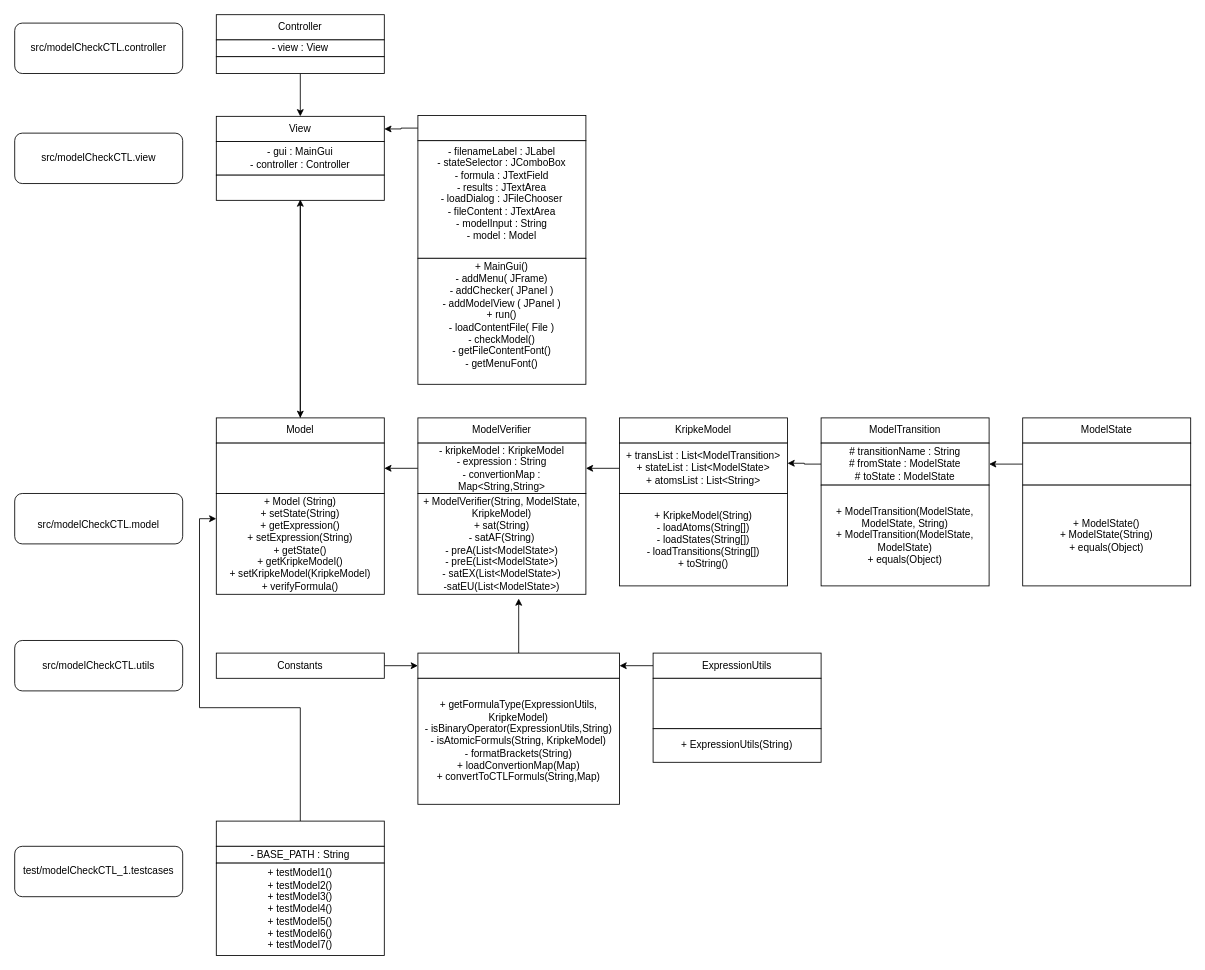
Image size: 1205x970. Some labels were removed from this diagram. The centre of each missing label's shape, as x and y in pixels:
"+ atomsList : List<String> + stateName : String" belongs at [1106,463].
"+ Controller()" belongs at [299,65].
"+ expression : String + leftExpr : String + rightExpr : String" belongs at [736,703].
"+ View( Controller )" belongs at [299,187].
"- expression : String - state : ModelState - kripkeModel : KripkeModel" belongs at [299,468].
"MainGui" belongs at [501,128].
"ModelCheckerTests" belongs at [299,833].
"ModelVerifierUtils" belongs at [518,665].
